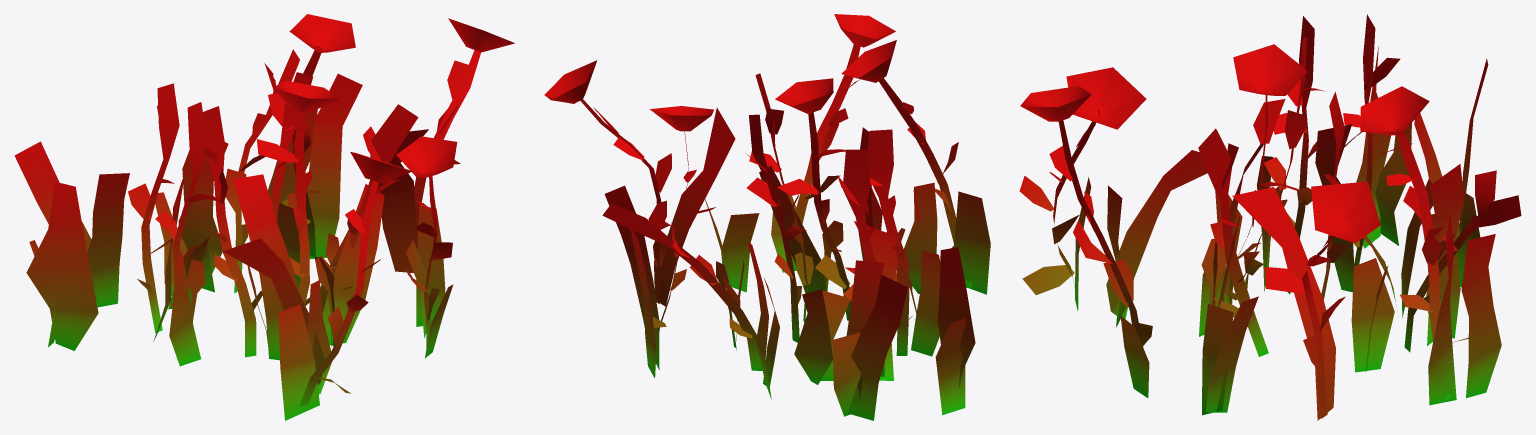
File: Var6_LOD1.fbx
The picture shows the model from 3 angles, left to right: view 1: azimuth 30°, elevation 25°; view 2: azimuth 150°, elevation 25°; view 3: azimuth 270°, elevation 25°; orthographic projection. The views are drawn at different scales.
Parts seen in each view (by area): view 1: _9c06_Var6_LOD1; view 2: _9c06_Var6_LOD1; view 3: _9c06_Var6_LOD1.
Boxes of the visible parts, bbox=[...] form: _9c06_Var6_LOD1: bbox=[14, 14, 514, 420]; _9c06_Var6_LOD1: bbox=[544, 14, 990, 420]; _9c06_Var6_LOD1: bbox=[1019, 14, 1521, 420].
Size of the model in its own units: 16.43 by 8.82 by 13.25.
